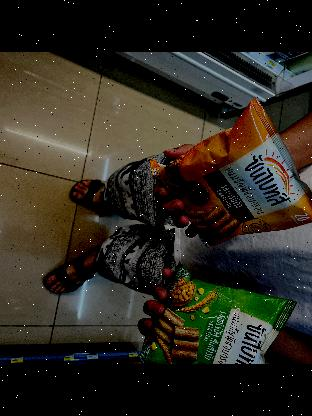Others: (143, 96, 312, 247), (138, 268, 300, 364)
